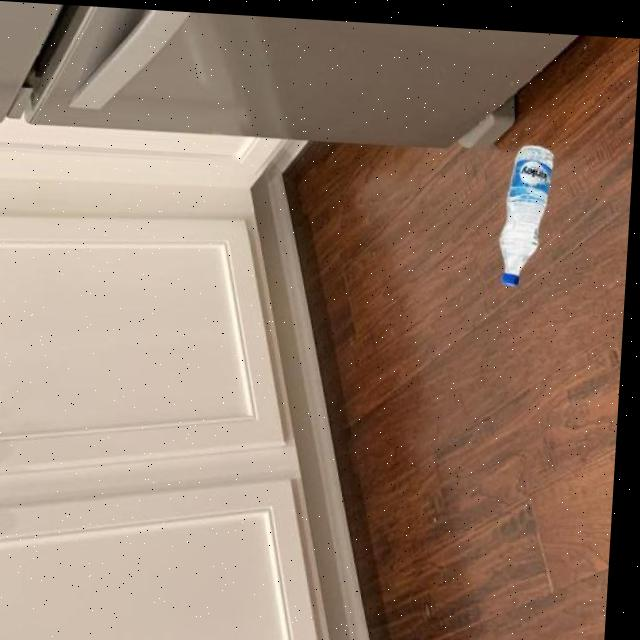bottle: (498, 136, 556, 283)
